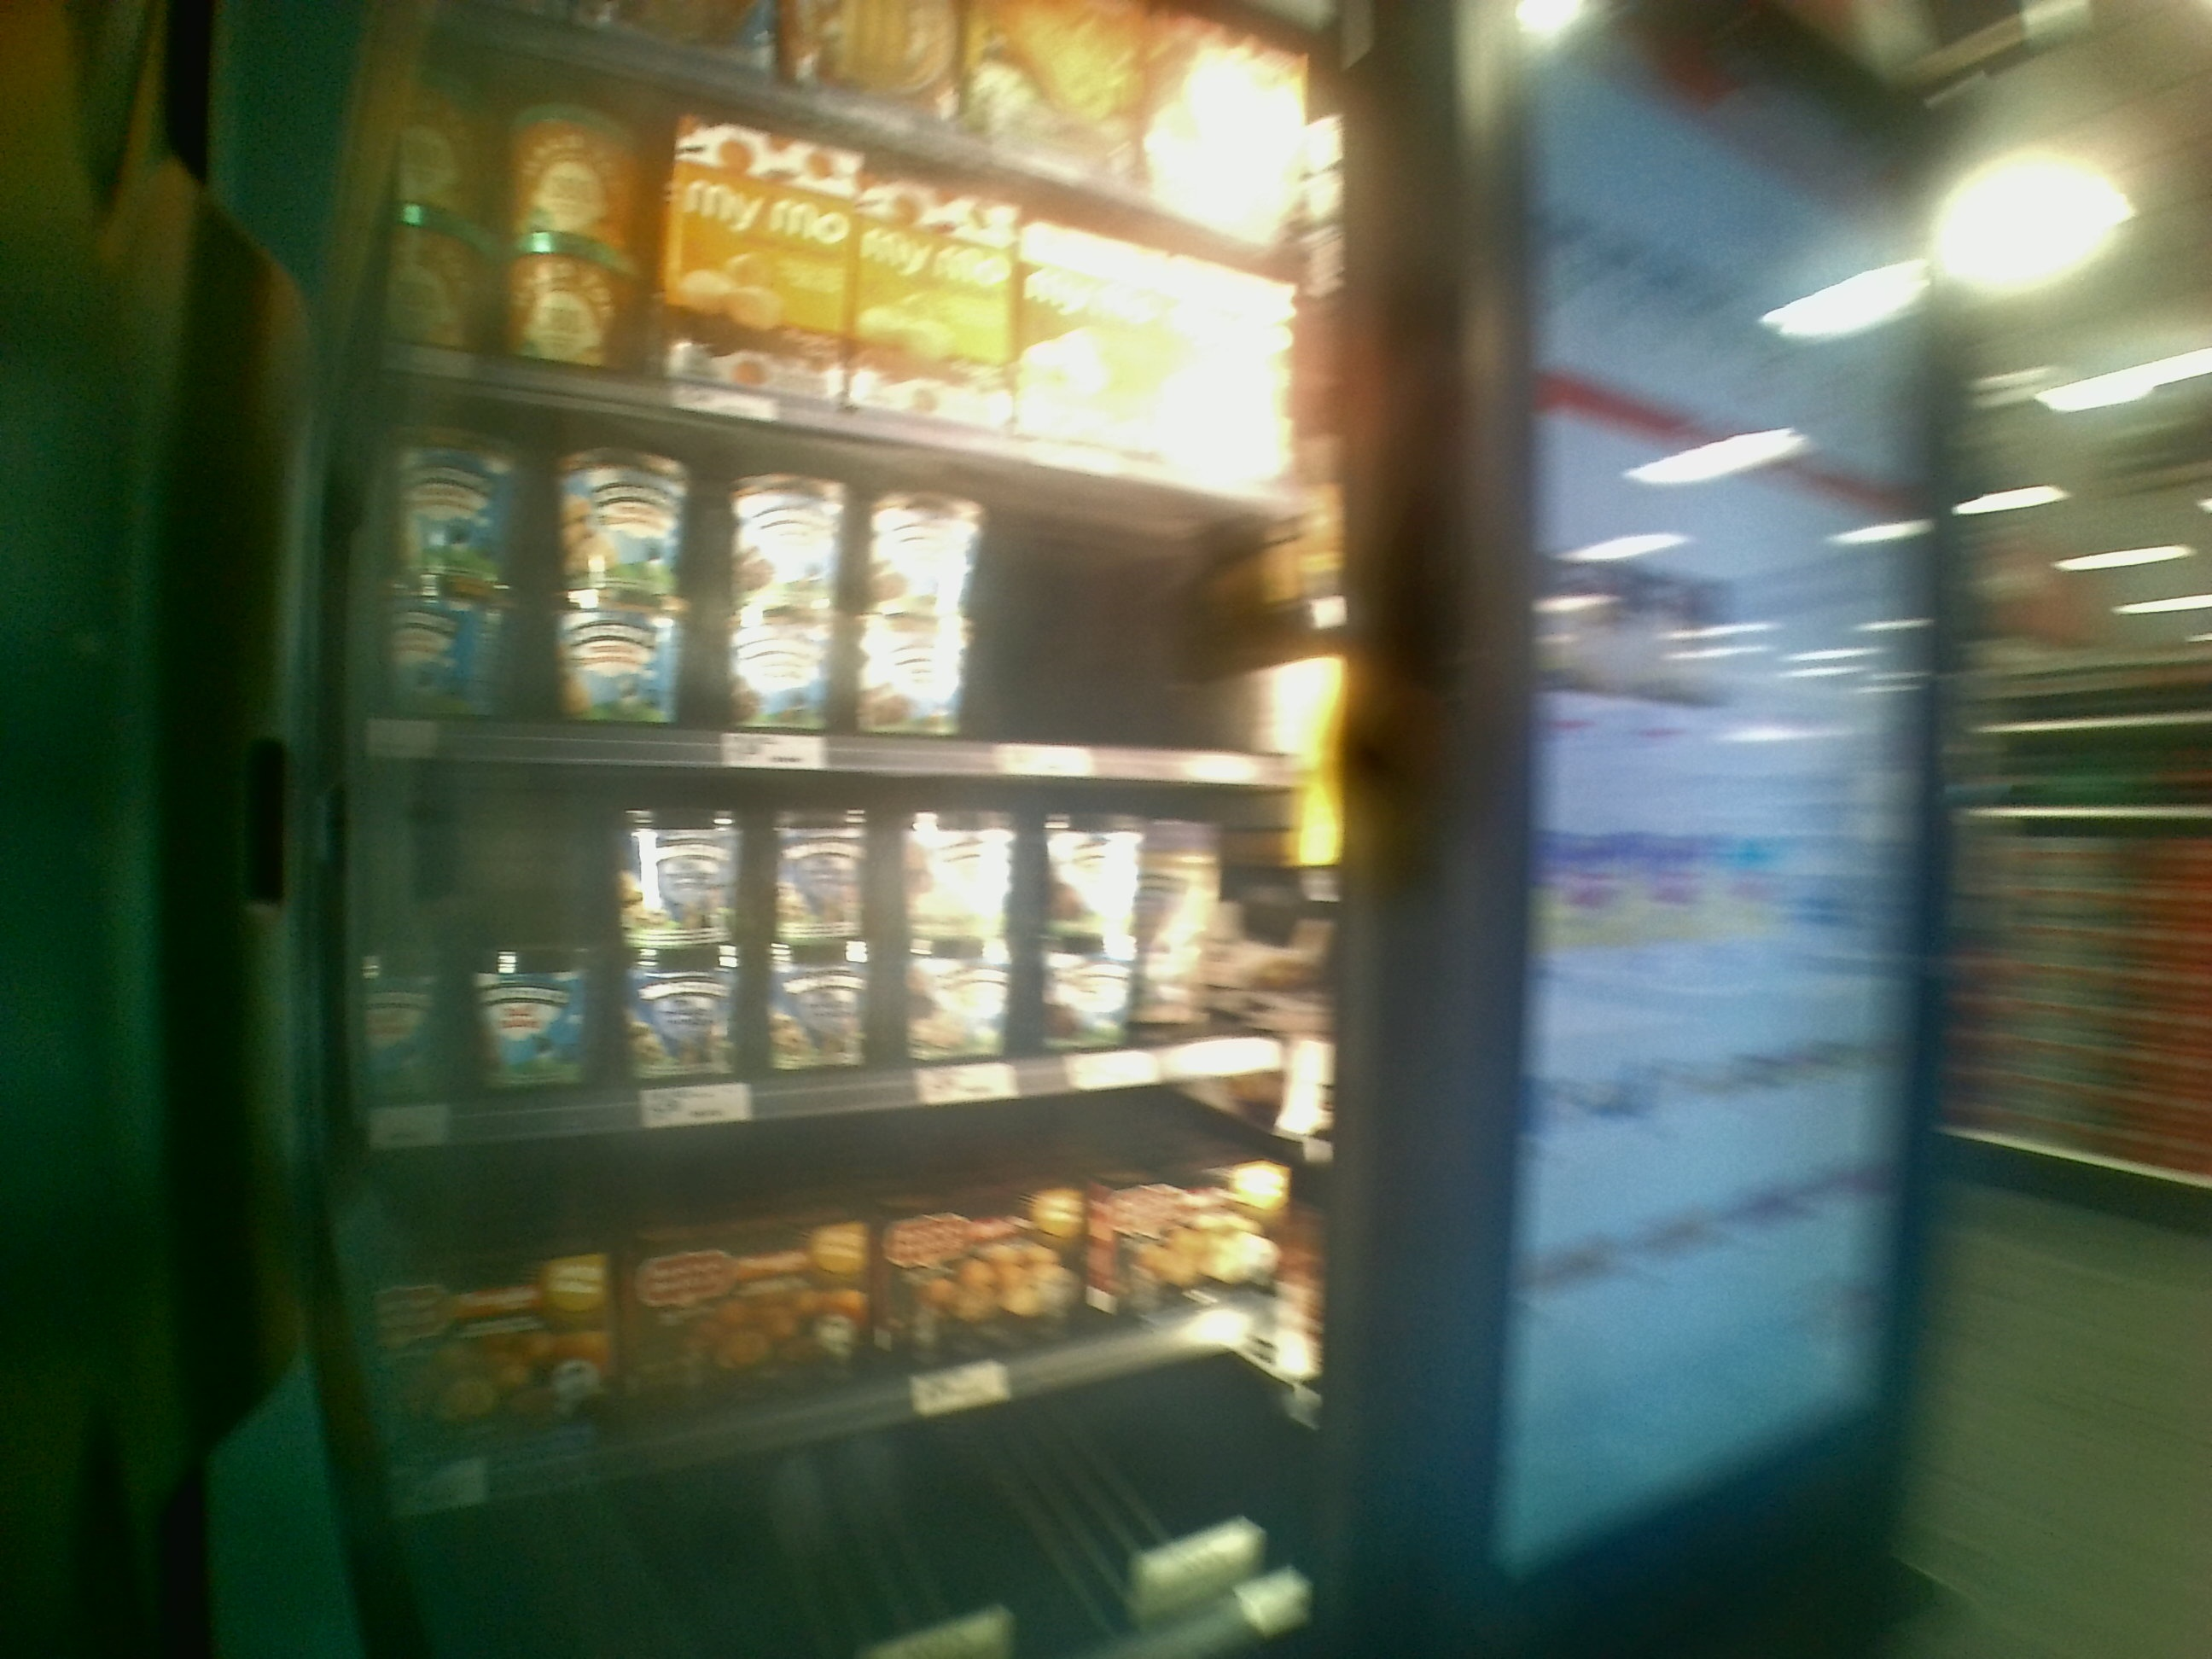shelf: (371, 389, 1285, 770), (341, 723, 1294, 1060), (446, 101, 1310, 443), (355, 1100, 1305, 1351)
